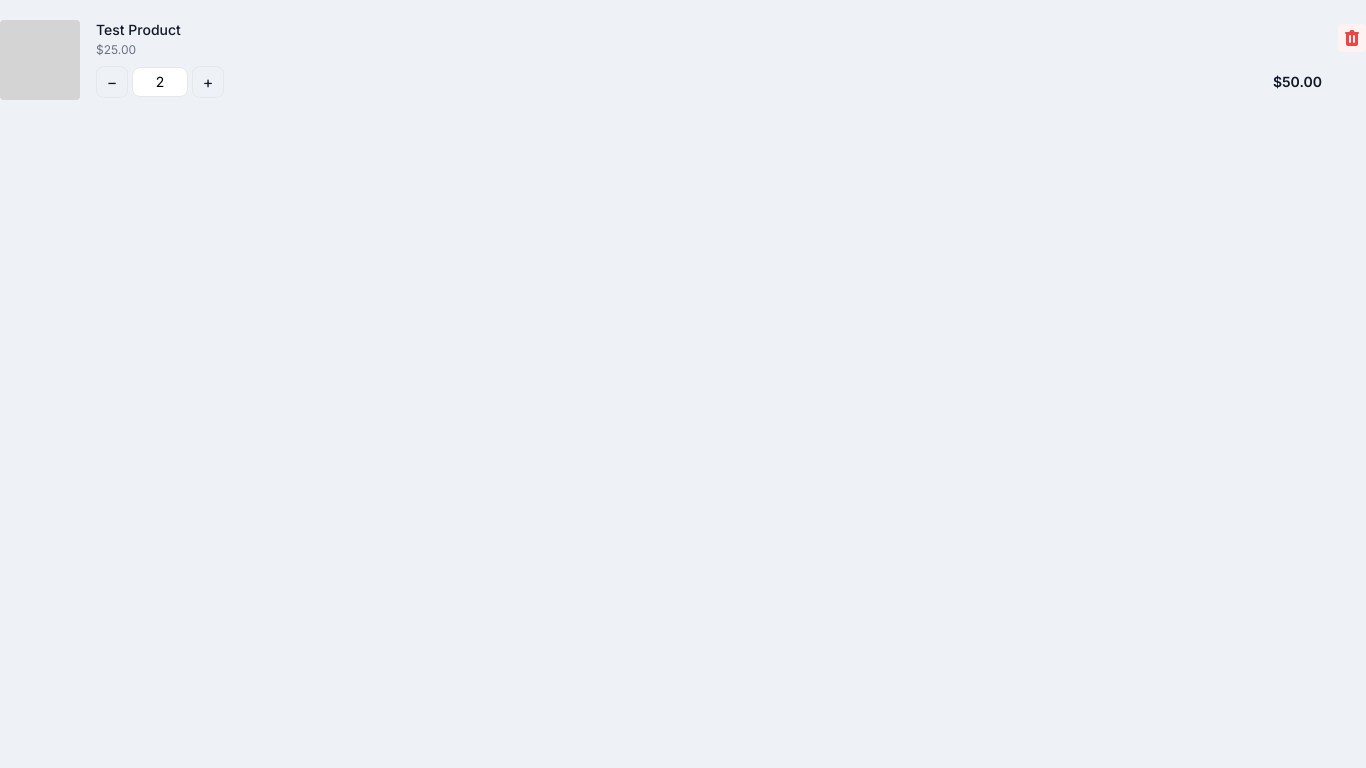
Test: CartLineItem › remove confirmation modal › clicking remove button opens confirmation modal
Click the button named "Remove Test Product" at coordinates (1352, 38), box [1338,24,1365,52]
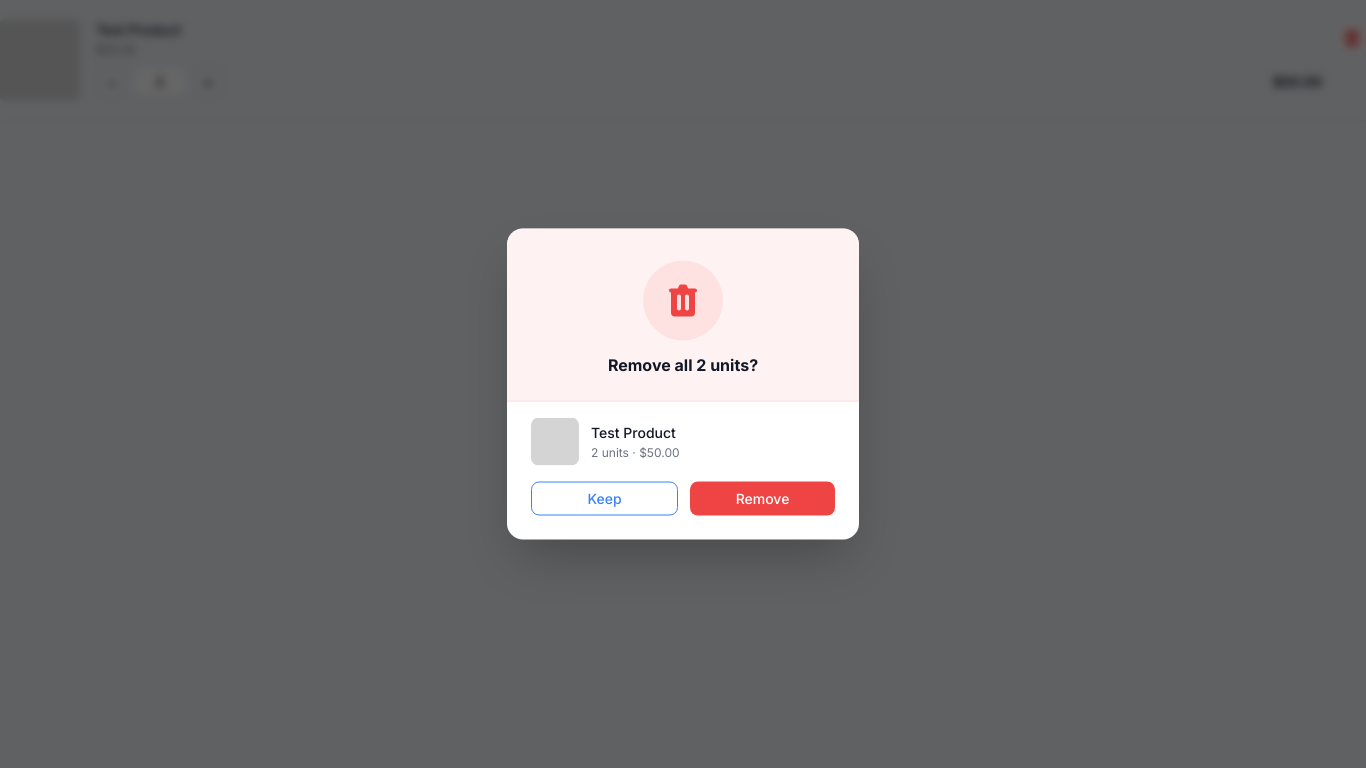
Expected: the dialog is shown, [507,228,859,540]
